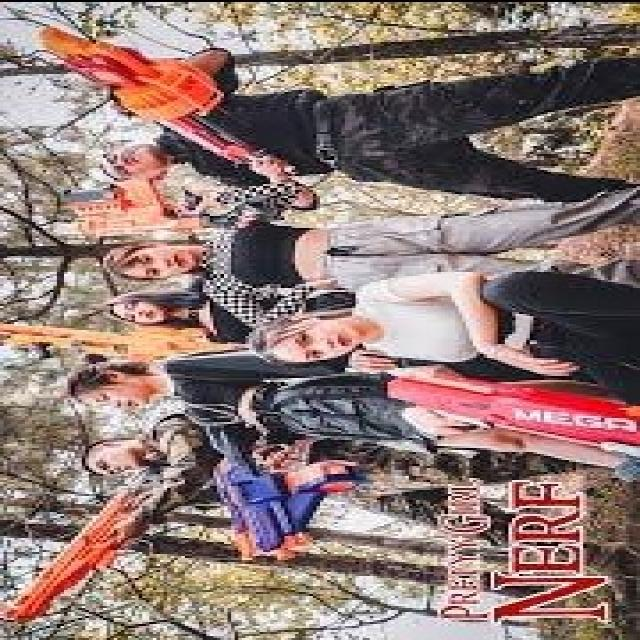Nerf gun: (29, 25, 298, 175), (0, 459, 164, 629), (377, 374, 640, 474), (196, 414, 359, 570), (0, 305, 231, 383), (34, 172, 229, 240)
